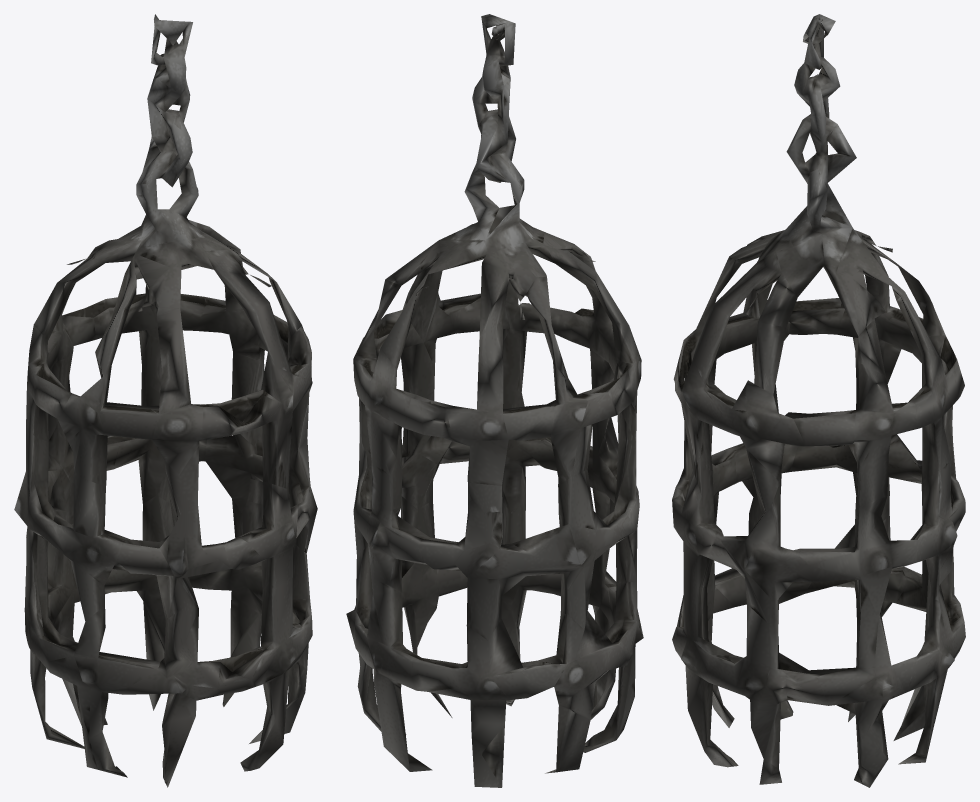
File: hanging_cage.glb
3 renders of one model, left to right at view 1: azimuth 30°, elevation 25°; view 2: azimuth 150°, elevation 25°; view 3: azimuth 270°, elevation 25°, orthographic.
Bounding box in the file's own units: 0.7295 × 1.99 × 0.7227.
1 material, 1 textured.
